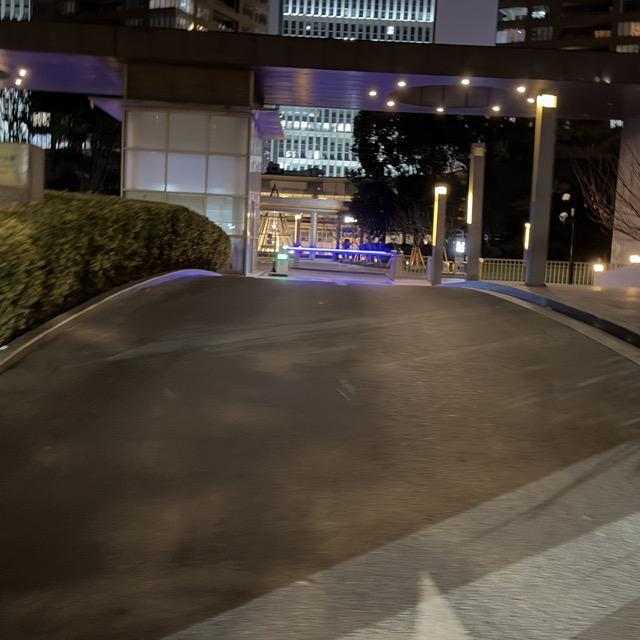curb: (0, 269, 221, 373), (460, 281, 639, 349)
